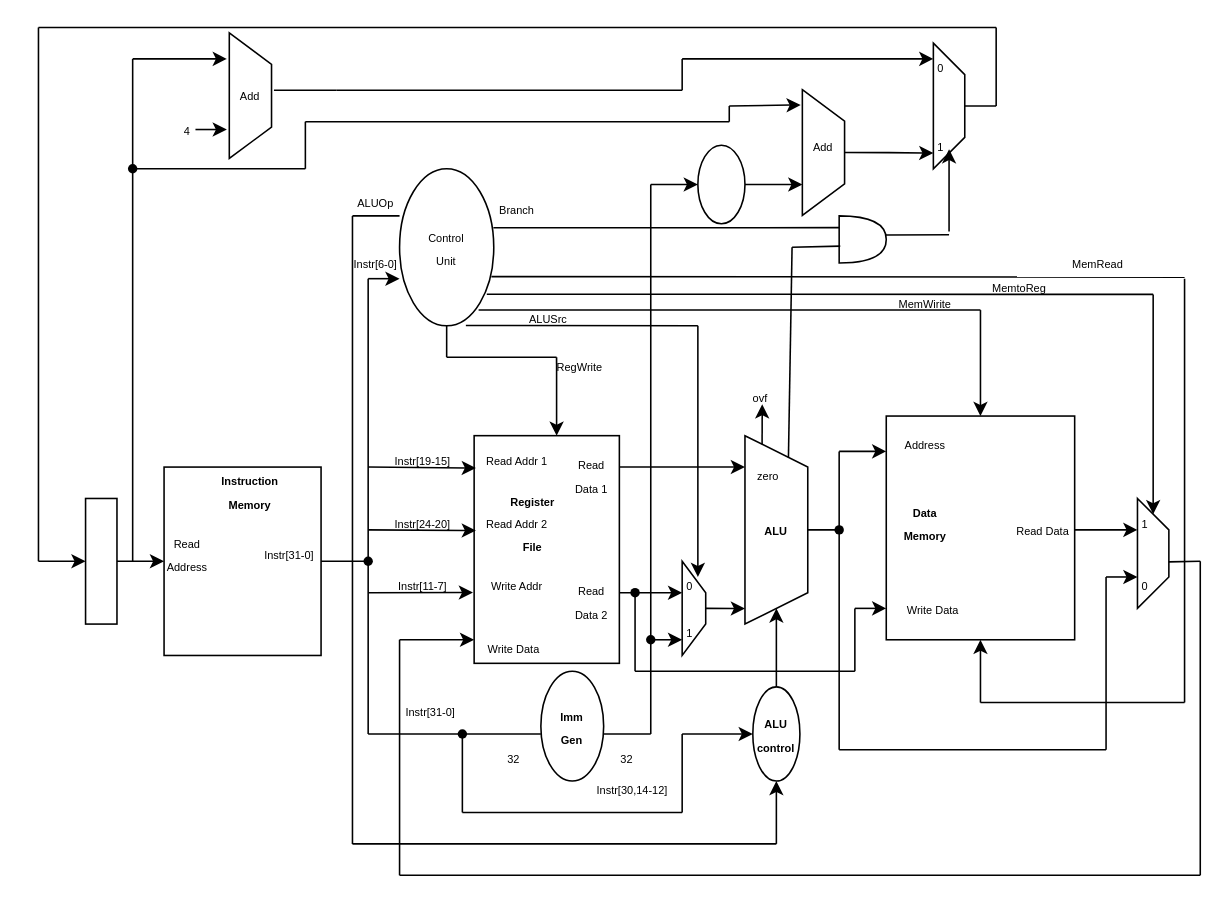
Some shapes in this 1229 by 904 pixel diagram are drawn without their labels. The centre of each missing label's shape, as x and y in pixels:
"PC" goes at [100,560].
"Shift left 1" goes at [720,184].
